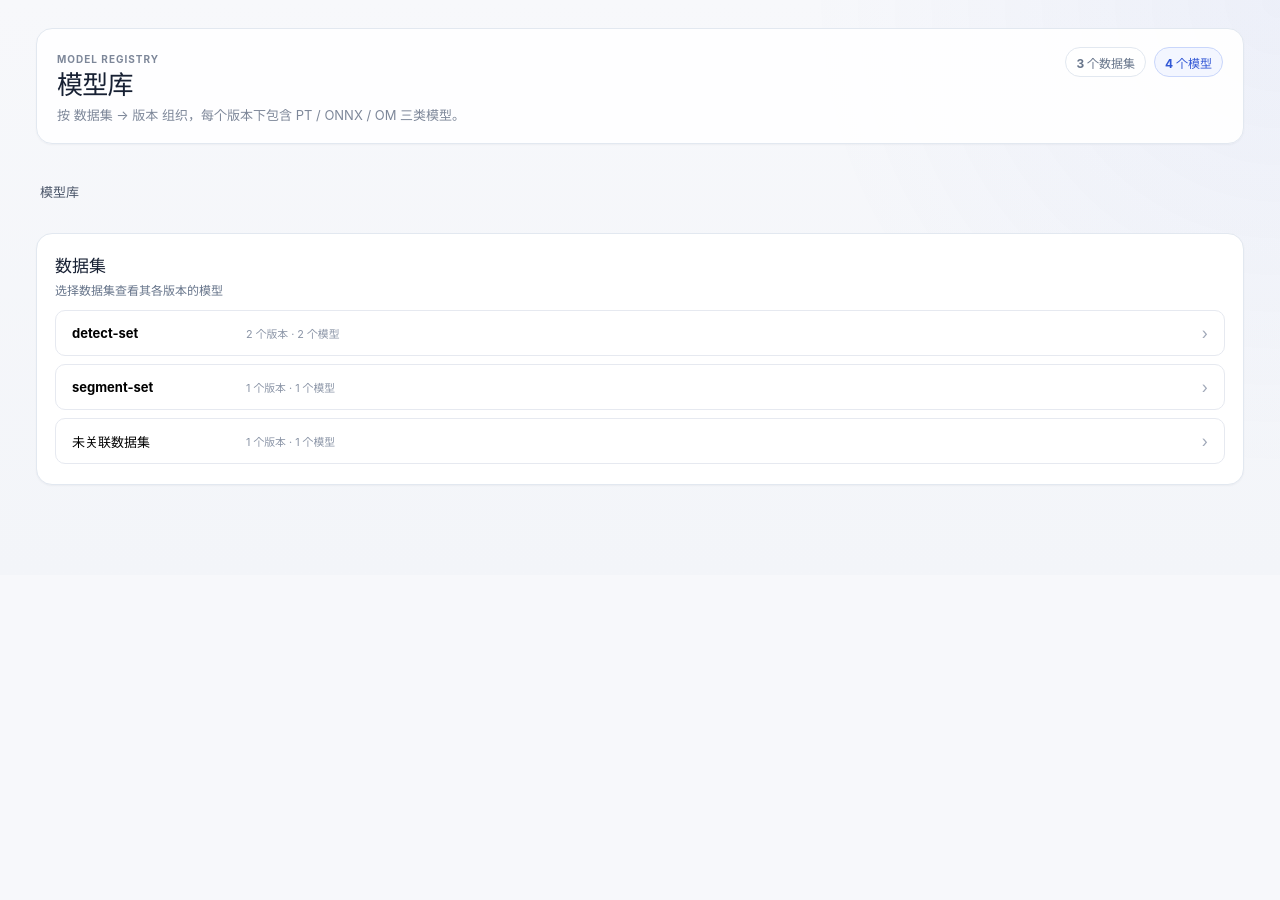
ModelsView grouped by dataset and version › lists datasets first and drills into versions and format sections
下钻数据集 → 版本列表
Click the button with class "models-drill-row" showing "detect-set 2 个版本 · 2 个模型 ›": [105, 333] box [55, 310, 1225, 356]
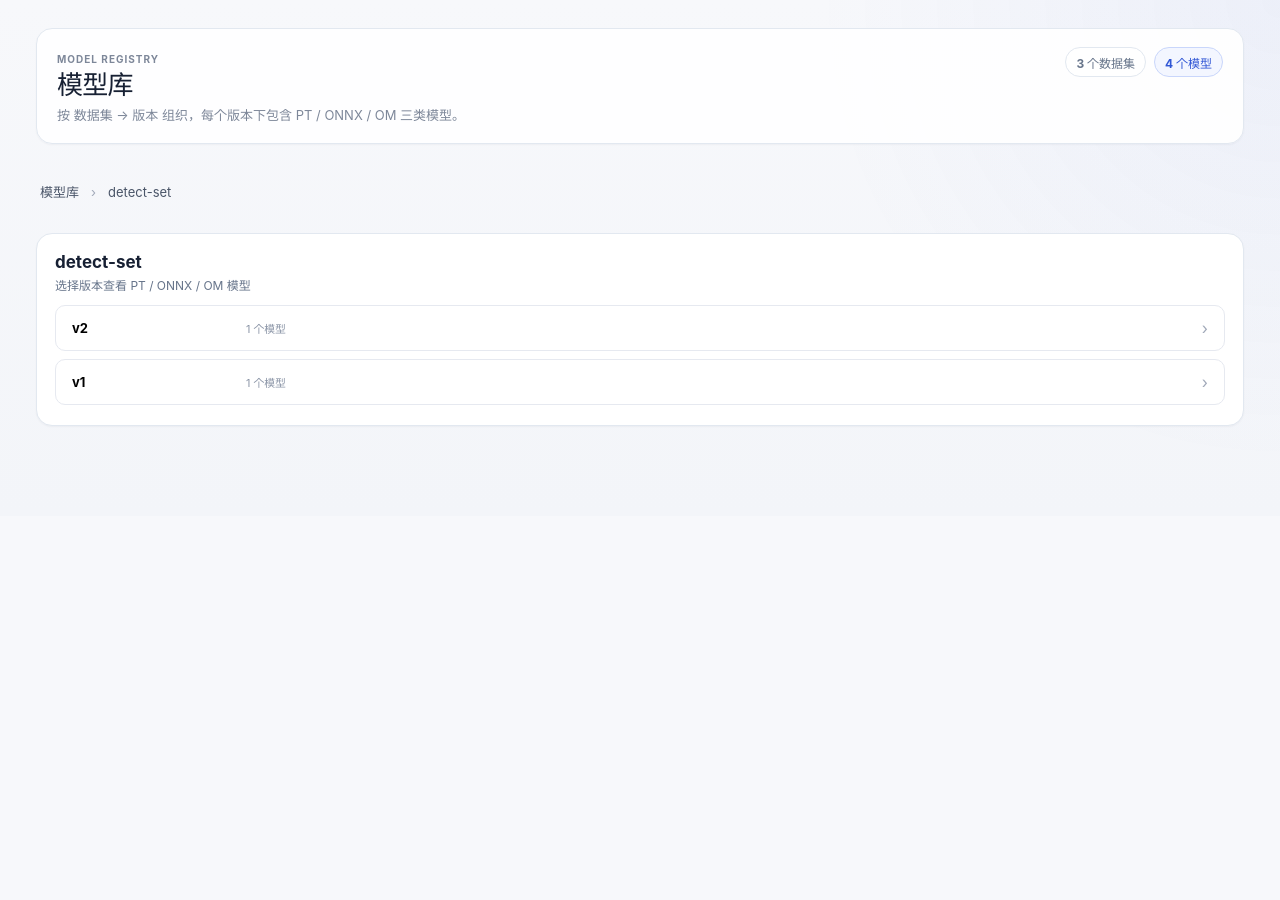
Check: the text "选择版本查看 PT / ONNX / OM 模型" is shown, box [55, 276, 251, 293]
下钻版本 v2 → 三格式分区
Click the button with class "models-drill-row" showing "v2 1 个模型 ›": [268, 330] box [55, 305, 1225, 351]
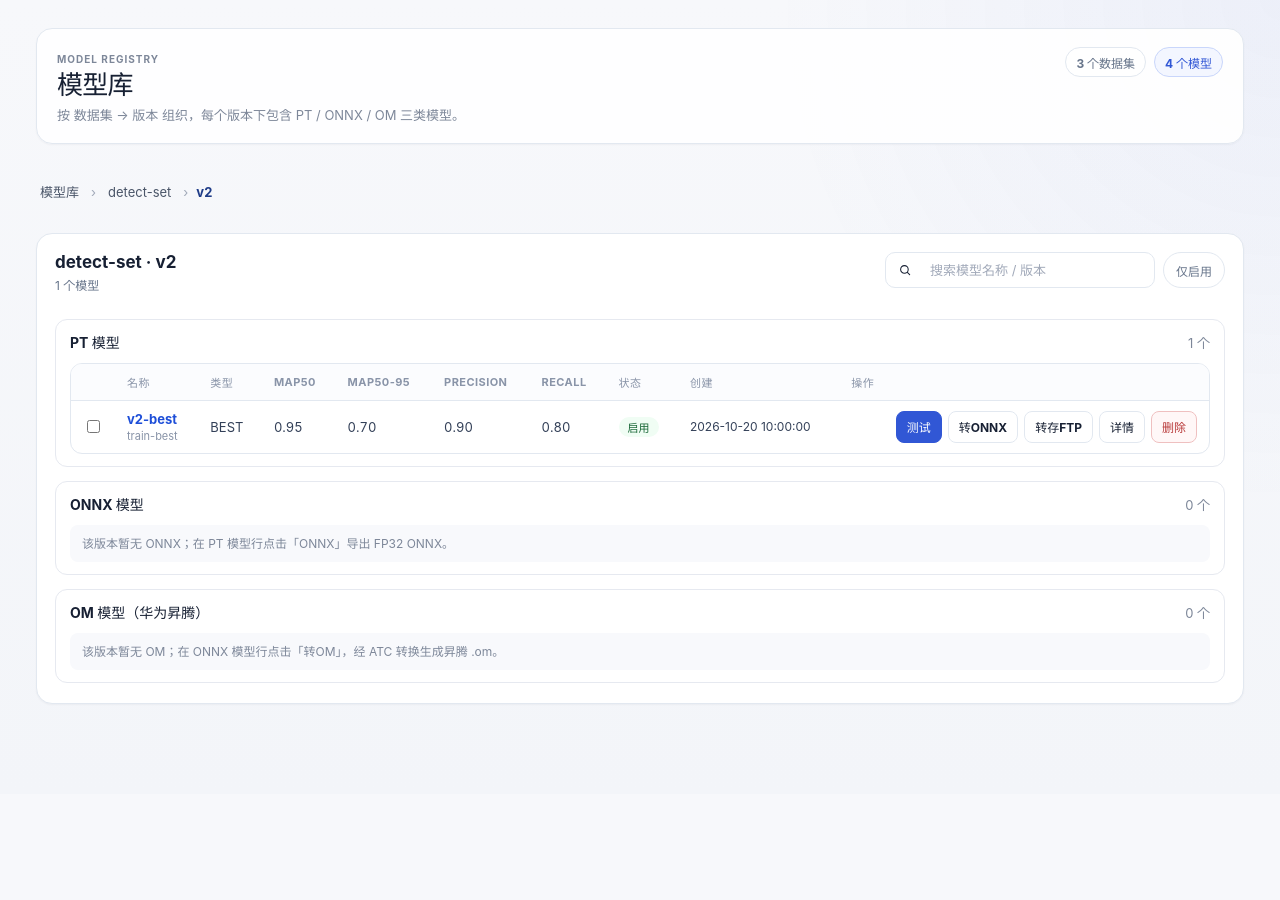
Check: the text "PT 模型" is shown, box [70, 332, 120, 352]
Check: the text "ONNX 模型" is shown, box [70, 494, 144, 514]
Check: the text "OM 模型（华为昇腾）" is shown, box [70, 602, 209, 622]
面包屑回退到数据集层
Click the button "模型库": [60, 192] box [36, 180, 83, 203]
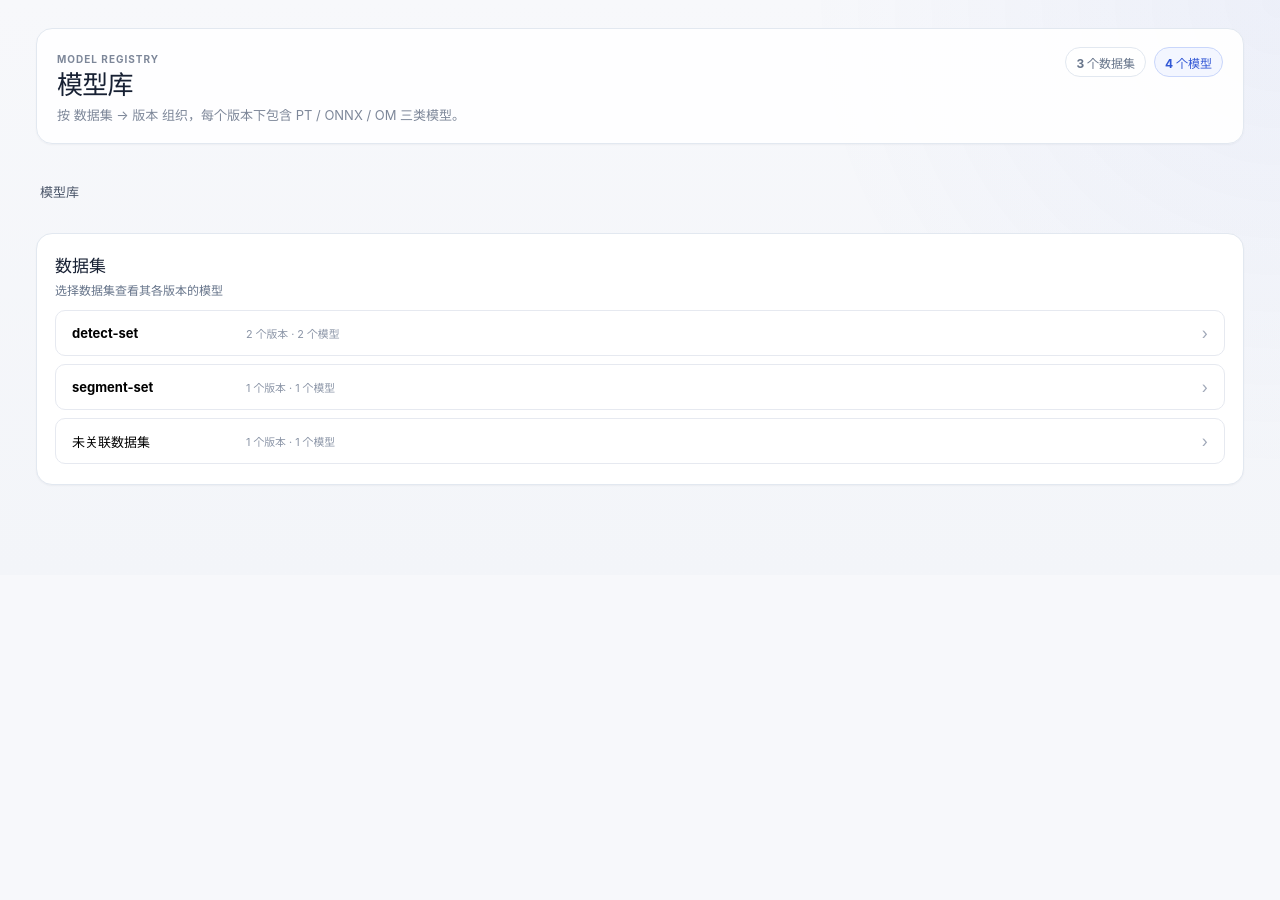
Check: the text "选择数据集查看其各版本的模型" is shown, box [55, 281, 223, 298]
